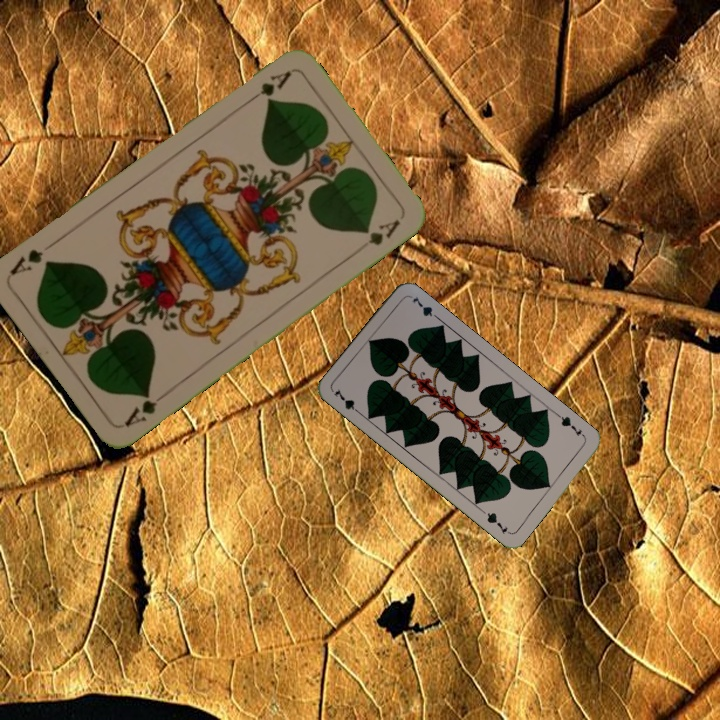G7: (330, 385, 364, 417), (554, 411, 588, 441)
GA: (120, 388, 171, 430), (243, 66, 294, 107)
